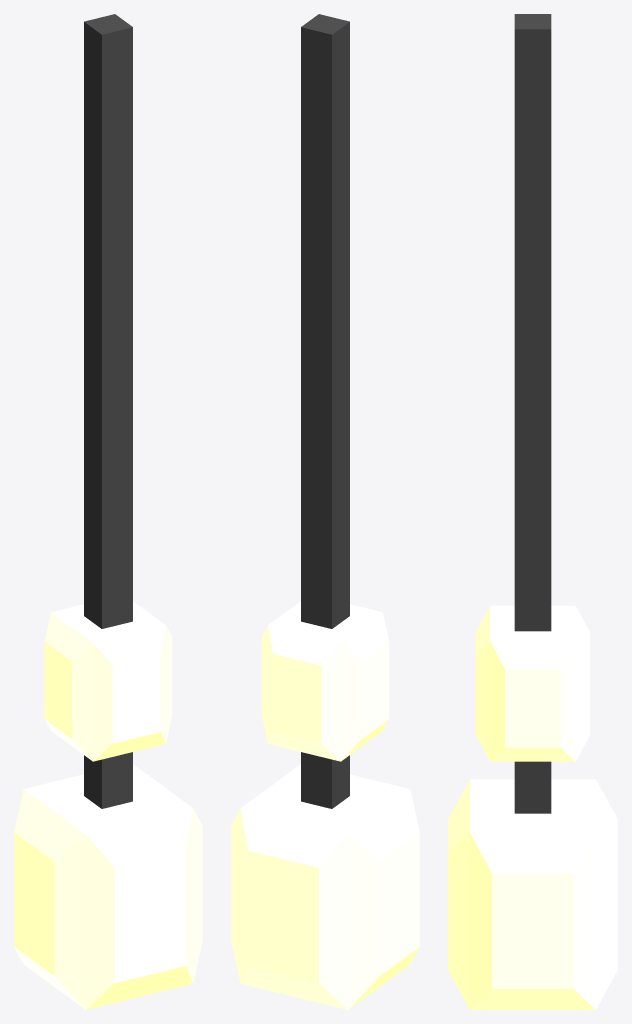
File: zyrandol_2.fbx
3 views of the same model, side by side, from view 1: azimuth 30°, elevation 25°; view 2: azimuth 150°, elevation 25°; view 3: azimuth 270°, elevation 25° (orthographic).
Visible parts, largest first — view 1: Cube.010; view 2: Cube.010; view 3: Cube.010.
Part boxes in pixels (x1,y1,x2,y2): Cube.010: (14,14,202,1009); Cube.010: (231,14,419,1009); Cube.010: (448,14,617,1009).
Bounding box in the file's own units: 185 × 1135 × 181.
